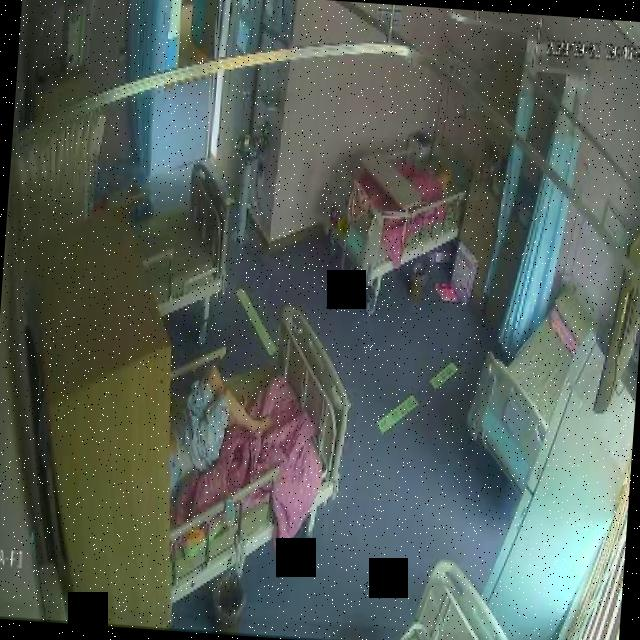bed: (156, 304, 350, 582), (461, 270, 594, 494), (318, 118, 472, 279), (130, 154, 236, 316)
lie: (163, 360, 280, 493)
patient: (162, 357, 280, 494), (422, 155, 455, 195)
